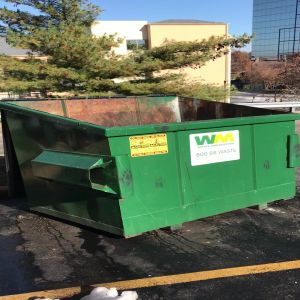Dumpster: (1, 96, 300, 241)
